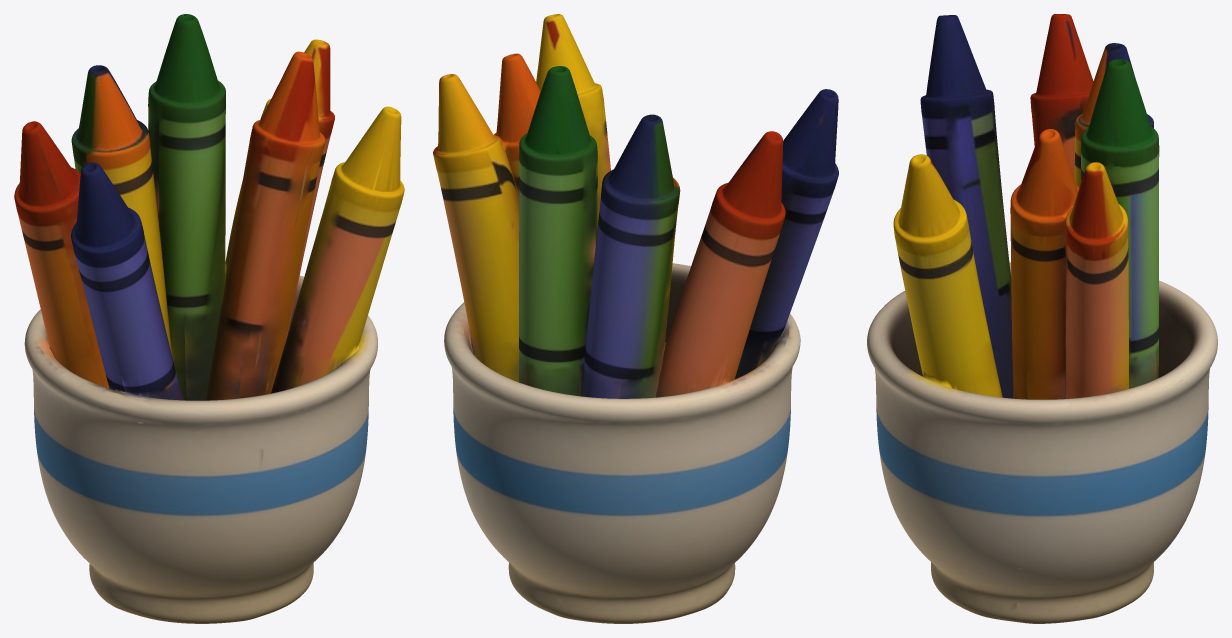
File: crayons.glb
3 renders of one model, left to right at view 1: azimuth 30°, elevation 25°; view 2: azimuth 150°, elevation 25°; view 3: azimuth 270°, elevation 25°, orthographic.
Parts seen in each view (by area): view 1: node_0; view 2: node_0; view 3: node_0.
Part boxes in pixels (x1=…): node_0: x1=14, y1=14, x2=404, y2=623; node_0: x1=433, y1=14, x2=838, y2=623; node_0: x1=867, y1=14, x2=1217, y2=623.
Bounding box in the file's own units: 0.7103 × 1.1 × 0.6618.
1 material, 1 textured.
